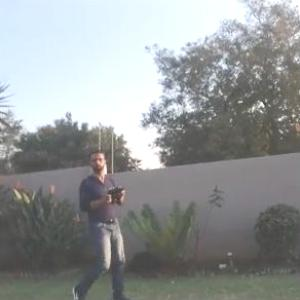follow: (69, 141, 143, 299)
